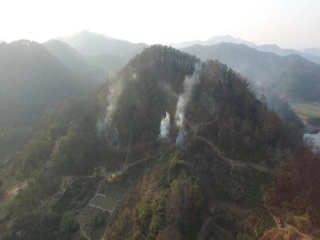smoke: (96, 68, 204, 148)
